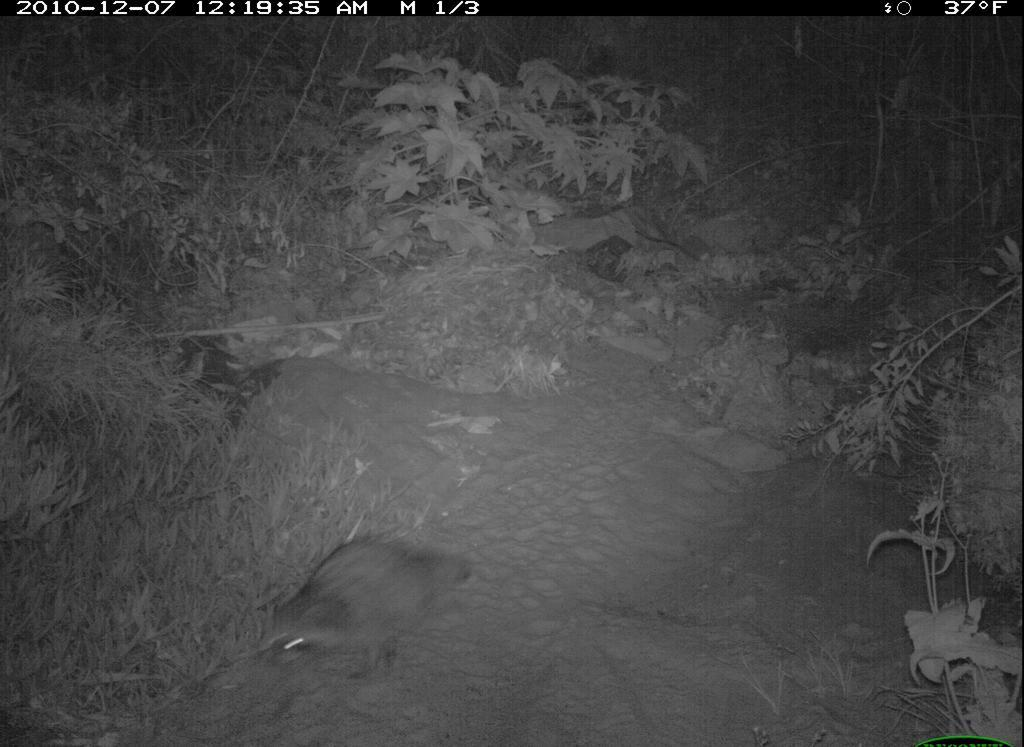raccoon: (204, 506, 506, 696)
